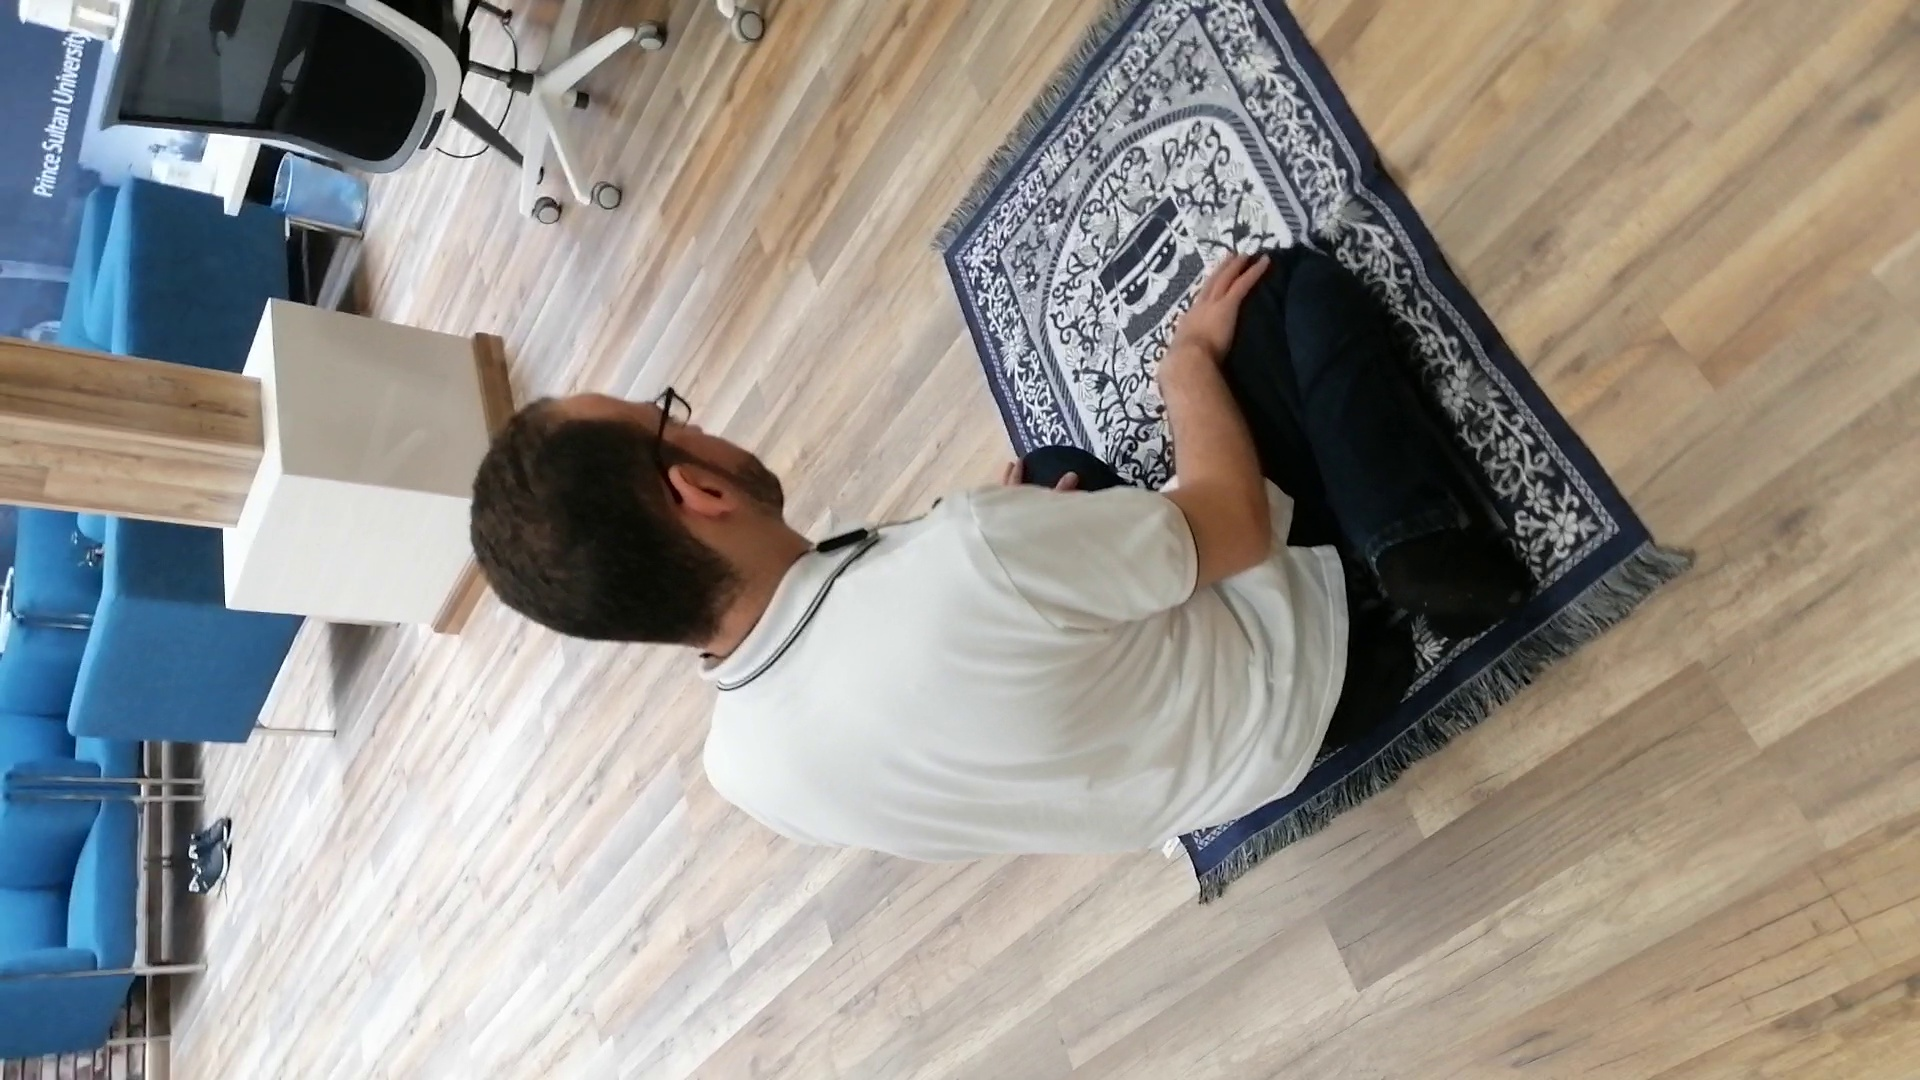sitting: (456, 235, 1532, 874)
